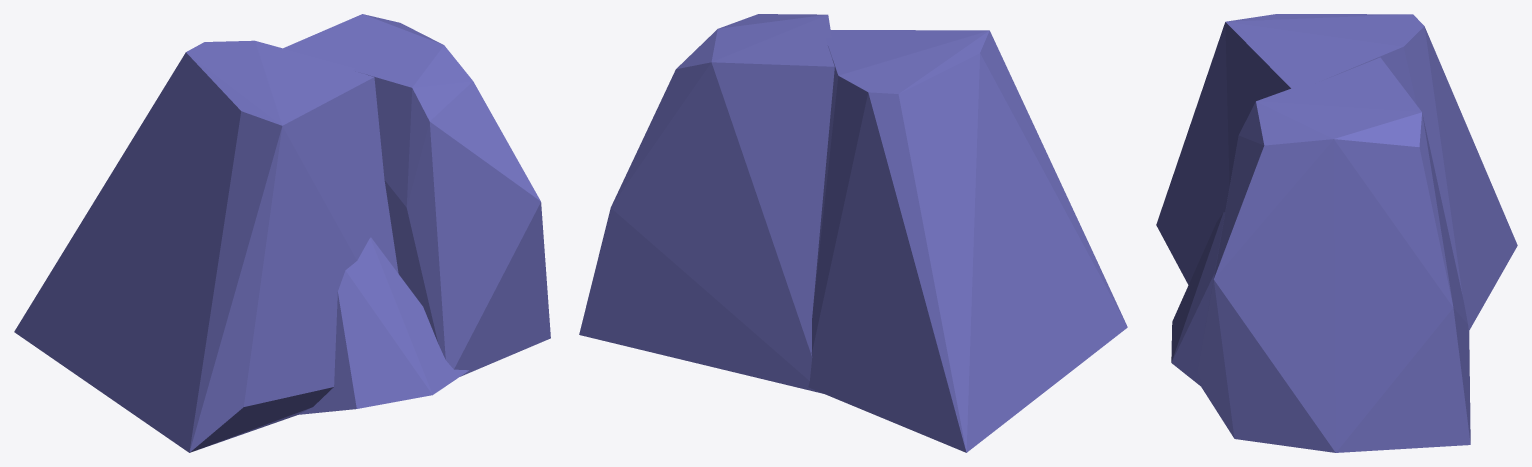
The model's file is Cliff_Block_03_Taper_Collider_01.FBX.
The picture shows the model from 3 angles, left to right: view 1: azimuth 30°, elevation 25°; view 2: azimuth 150°, elevation 25°; view 3: azimuth 270°, elevation 25°; orthographic projection.
Parts seen in each view (by area): view 1: COLLIDER1, COLLIDER2, COLLIDER3; view 2: COLLIDER1, COLLIDER2; view 3: COLLIDER2, COLLIDER1, COLLIDER3.
Boxes of the visible parts, x1,y1,x2,y2 form: COLLIDER1: [14, 40, 398, 452]; COLLIDER2: [283, 14, 550, 376]; COLLIDER3: [297, 237, 468, 414]; COLLIDER1: [808, 30, 1127, 452]; COLLIDER2: [579, 14, 834, 393]; COLLIDER2: [1197, 57, 1470, 452]; COLLIDER1: [1156, 14, 1517, 330]; COLLIDER3: [1171, 212, 1224, 388].
Bounding box in the file's own units: 498 × 345 × 366.
